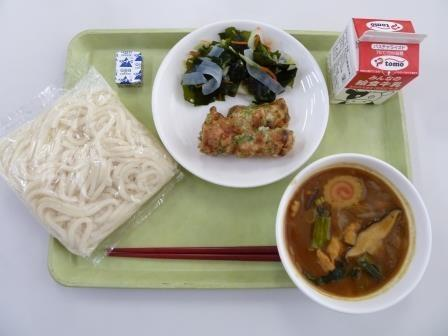Curry: (279, 156, 430, 311)
Meat: (199, 99, 294, 170)
Milk: (331, 20, 437, 105)
Salad: (181, 30, 304, 102)
Udon: (1, 82, 157, 245)
